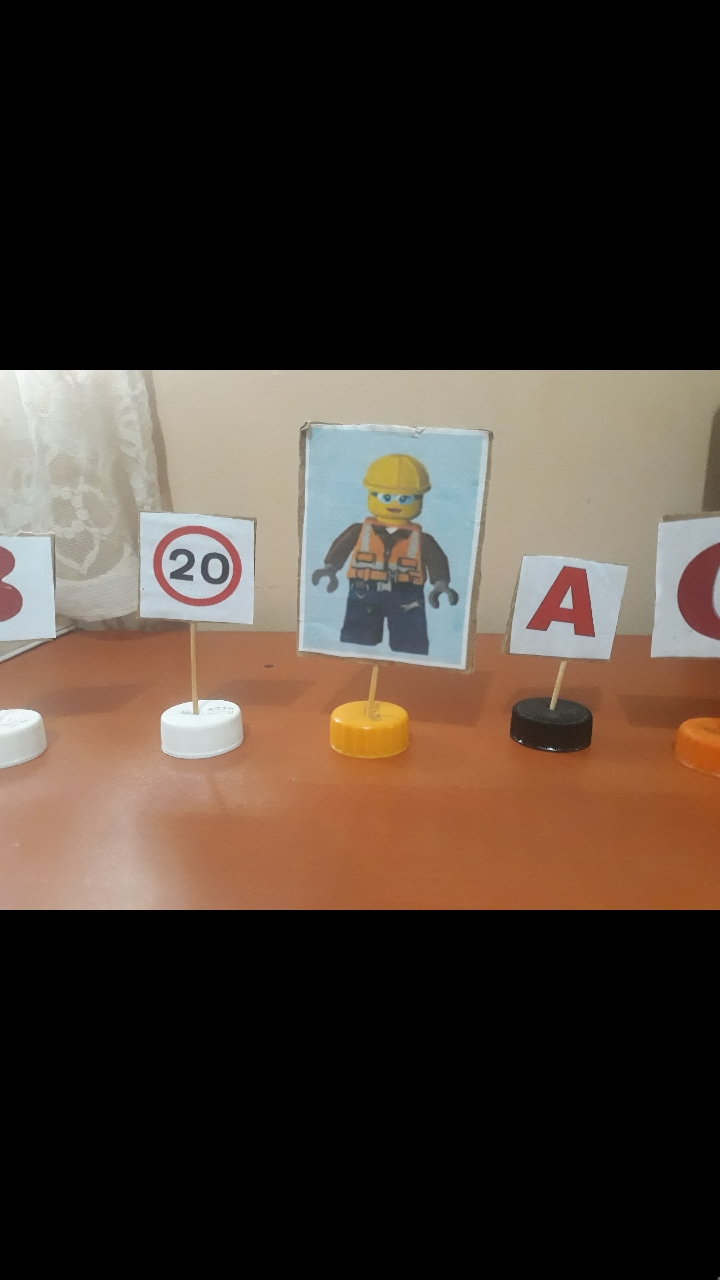20 kph: (142, 512, 255, 617)
pedestrian: (308, 423, 461, 666)
zone A: (518, 557, 614, 665)
